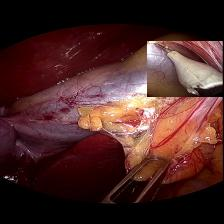Grasper: (98, 153, 186, 203)
Hook: (147, 40, 224, 96)
